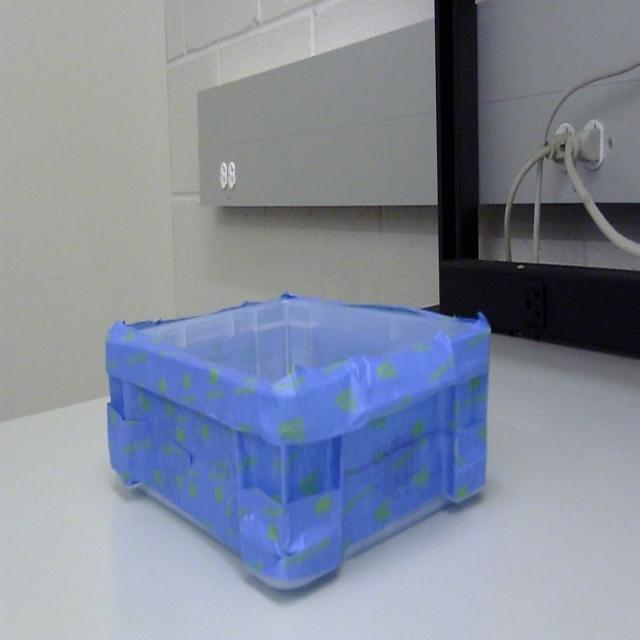bucket: (104, 294, 492, 596)
